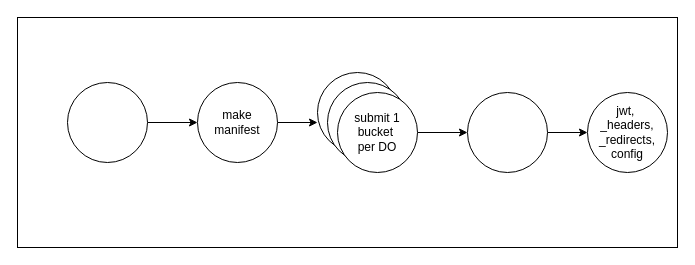
The diagram is 695 pixels wide and 265 high, and some of its shapes have lost their labels. Each missing label, with the box of its shape:
longpoll: (466, 92, 548, 172)
script name assets file object url: (66, 82, 148, 162)
